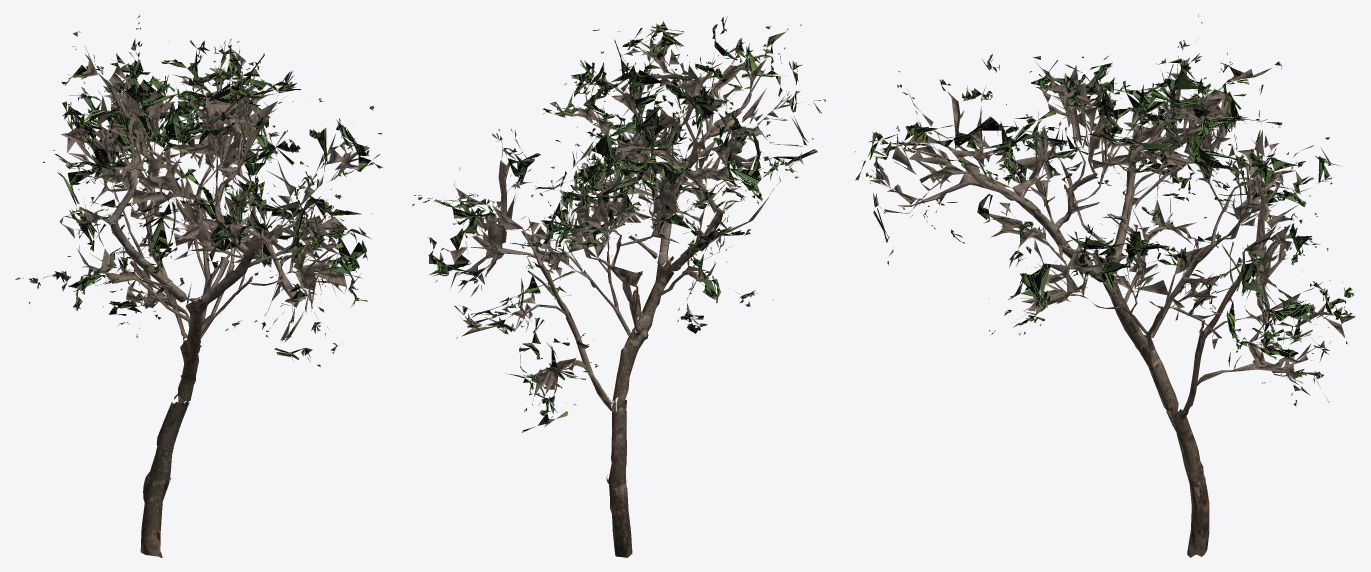
The model's file is tree-economy.glb.
3 views of the same model, side by side, from view 1: azimuth 30°, elevation 25°; view 2: azimuth 150°, elevation 25°; view 3: azimuth 270°, elevation 25° (orthographic). The views are drawn at different scales.
Visible parts, largest first — view 1: tree_small_02_LOD0; view 2: tree_small_02_LOD0; view 3: tree_small_02_LOD0.
Part boxes in pixels (x1,y1,x2,y2): tree_small_02_LOD0: (15, 14, 382, 557); tree_small_02_LOD0: (412, 16, 825, 557); tree_small_02_LOD0: (854, 14, 1355, 557).
Size of the model in its own units: 2.85 by 4.52 by 4.08.
Materials: 3 (3 with a texture image).
